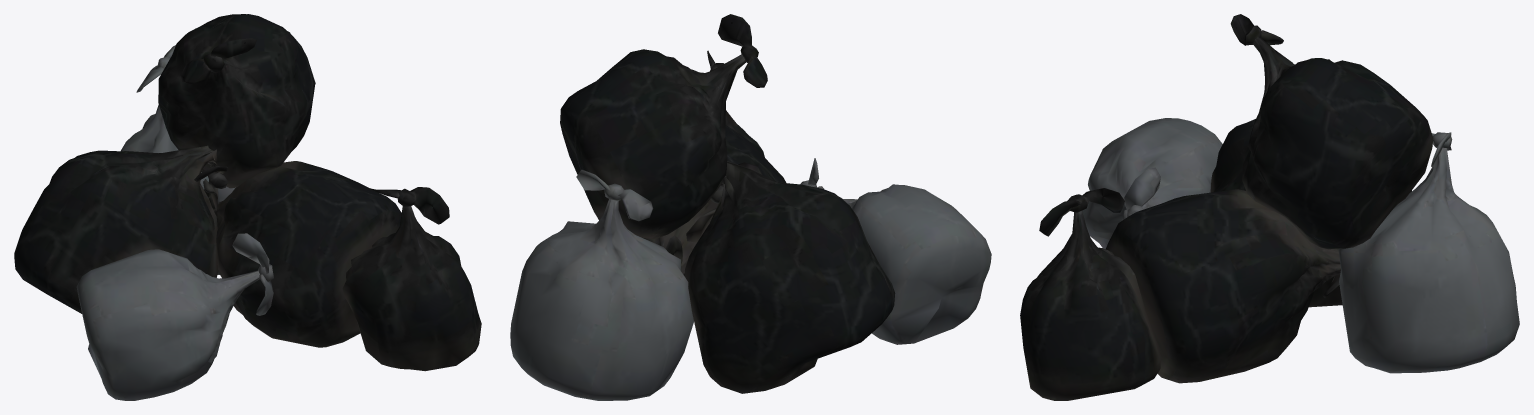
File: trash_bags.glb
The picture shows the model from 3 angles, left to right: view 1: azimuth 30°, elevation 25°; view 2: azimuth 150°, elevation 25°; view 3: azimuth 270°, elevation 25°; orthographic projection. The views are drawn at different scales.
Visible parts, largest first — view 1: trash-bag-pile_body; view 2: trash-bag-pile_body; view 3: trash-bag-pile_body.
Boxes of the visible parts, x1=… form: trash-bag-pile_body: x1=14, y1=14, x2=481, y2=400; trash-bag-pile_body: x1=510, y1=14, x2=991, y2=400; trash-bag-pile_body: x1=1020, y1=14, x2=1519, y2=400.
Bounding box in the file's own units: 1.27 × 0.9641 × 1.42.
1 material, 1 textured.
